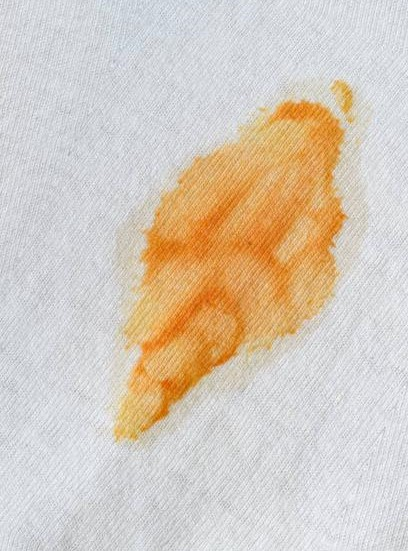stain: (114, 80, 353, 455)
